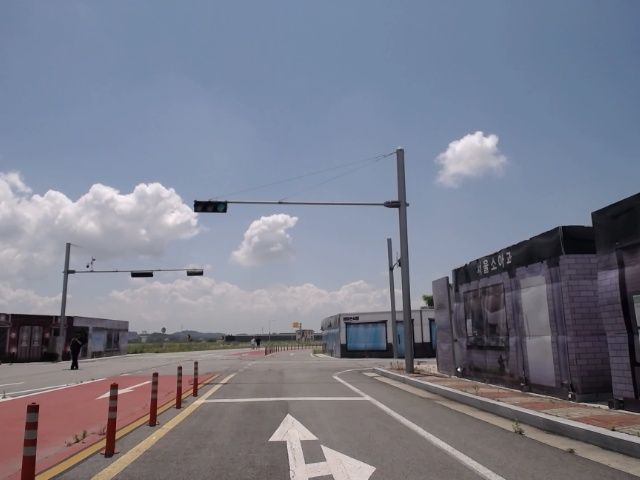green_3: (195, 201, 227, 212)
